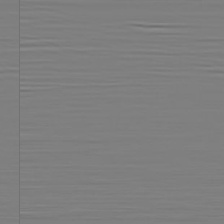cavities: (81, 67, 128, 121)
